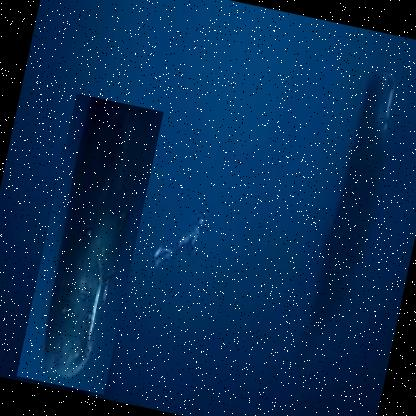sperm_whale: (16, 93, 164, 395), (278, 58, 415, 367)
